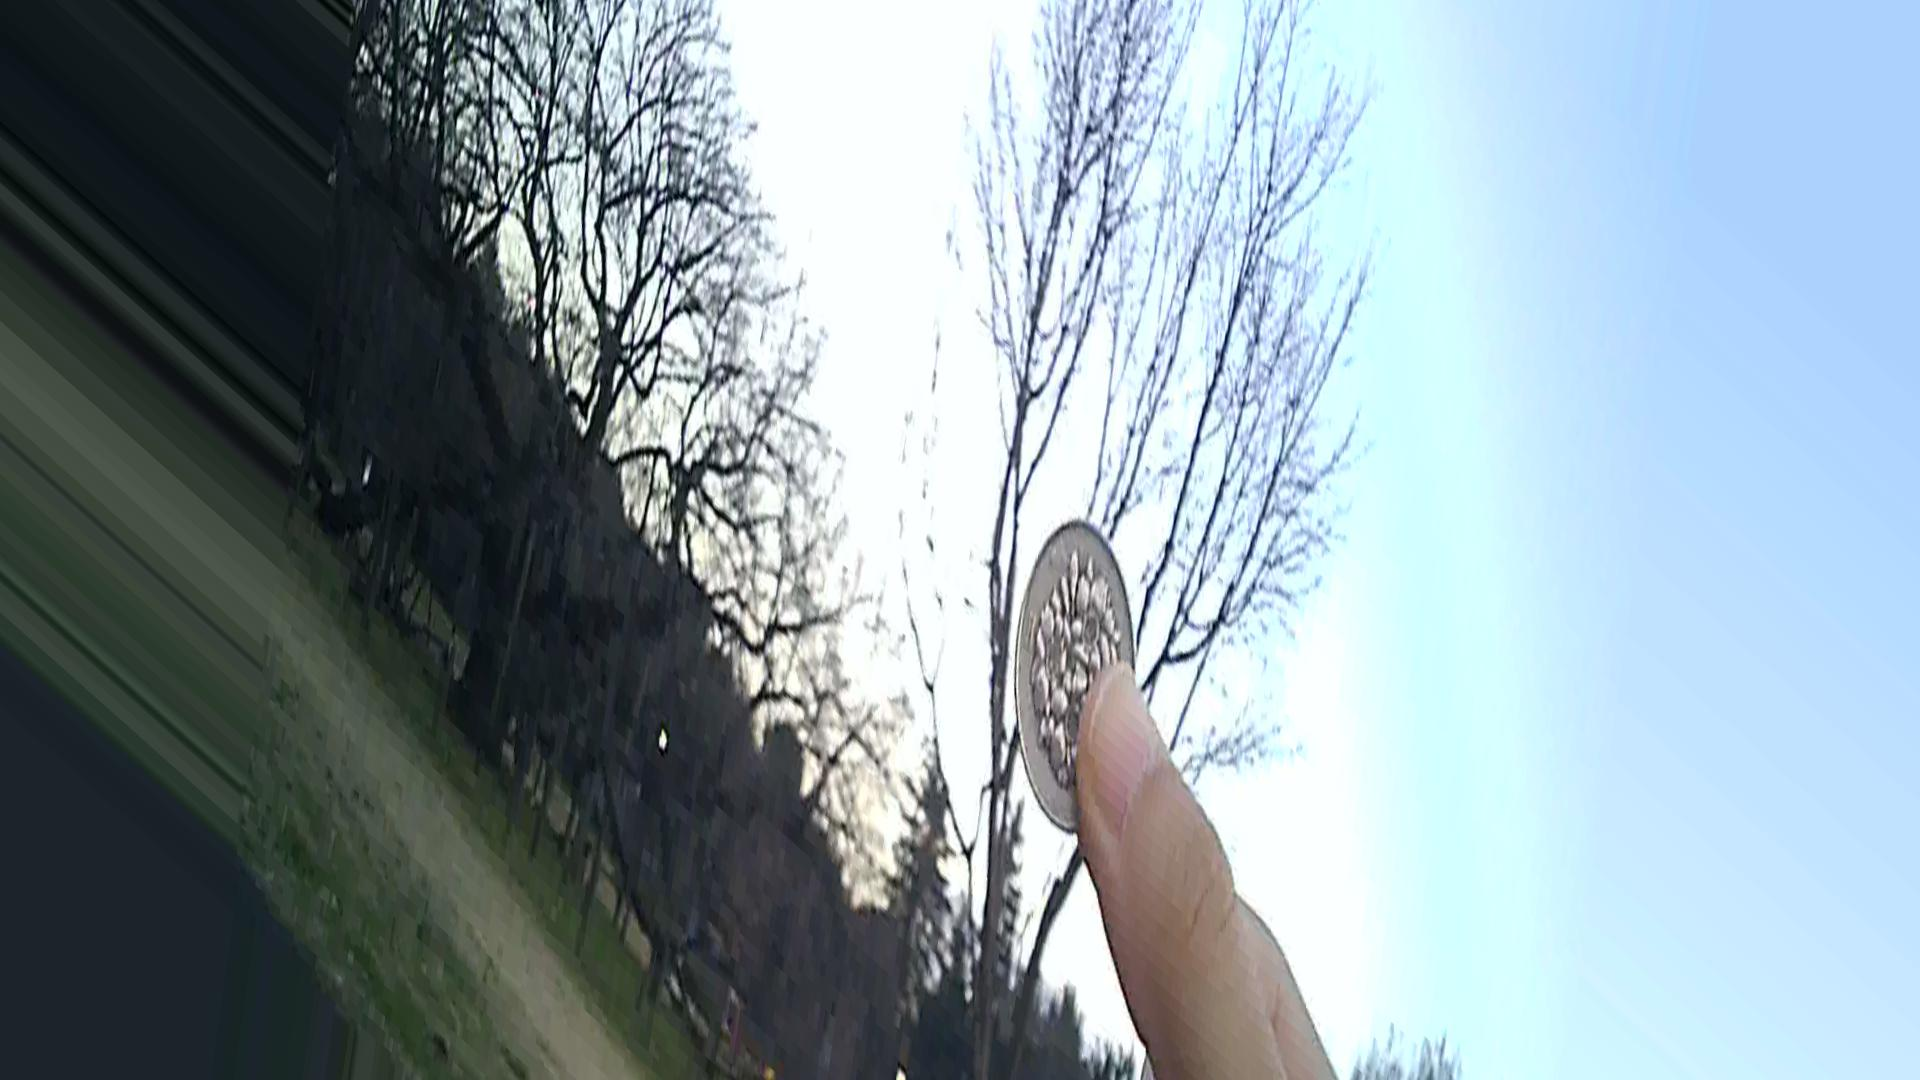100 Yen: (1021, 527, 1156, 829)
